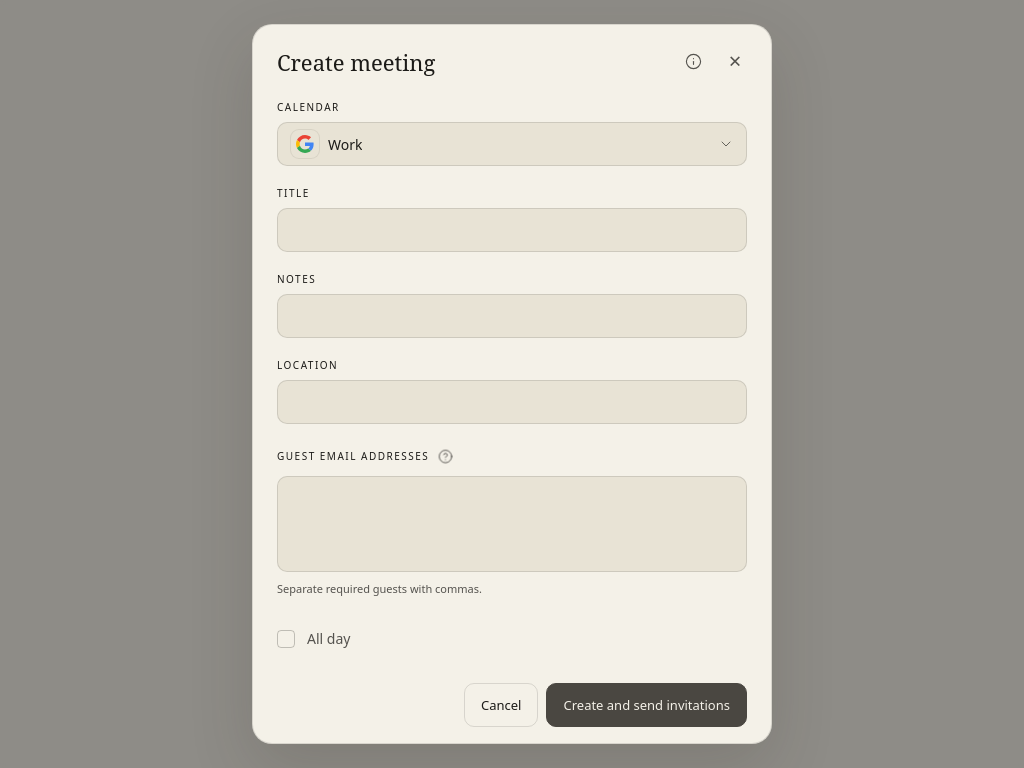
Test case: offers only owner event calendars with a matching successful local capability
This screenshot has width=1024, height=768.
Expected: the field labelled "Title" is shown, [277, 208, 747, 252]
Click the dropdown named "Calendar" at [345, 144], box [277, 122, 747, 166]
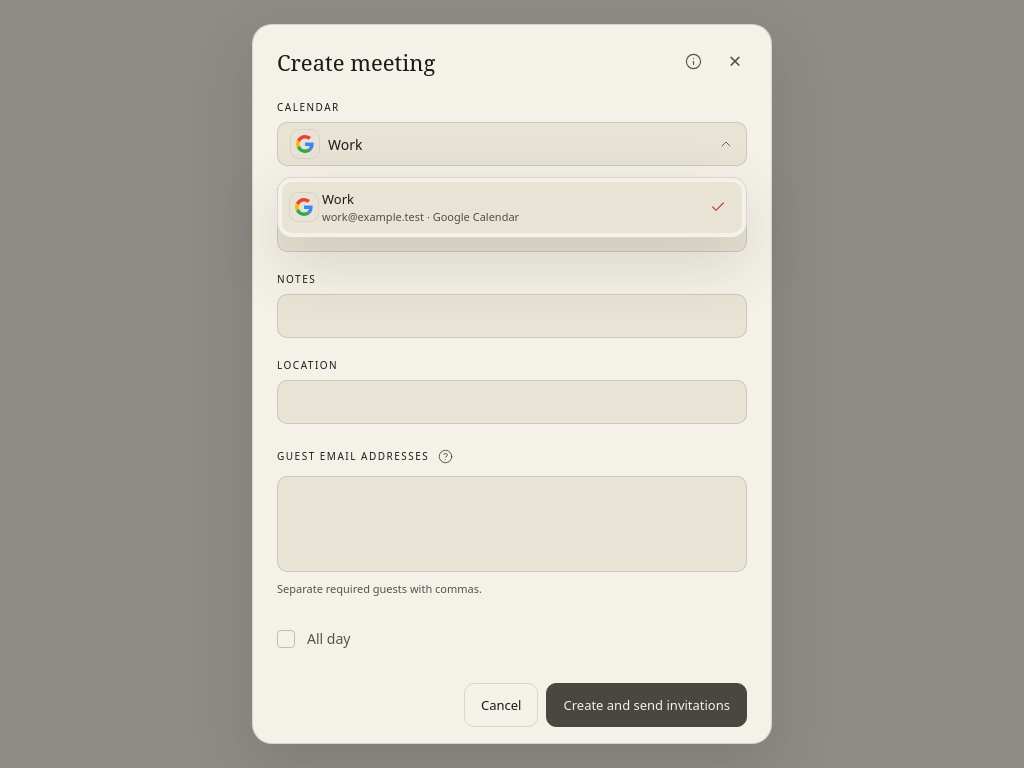
Result: the number of options is 1 at [282, 182, 742, 233]
Result: the option shows "Work" at [282, 182, 742, 233]
